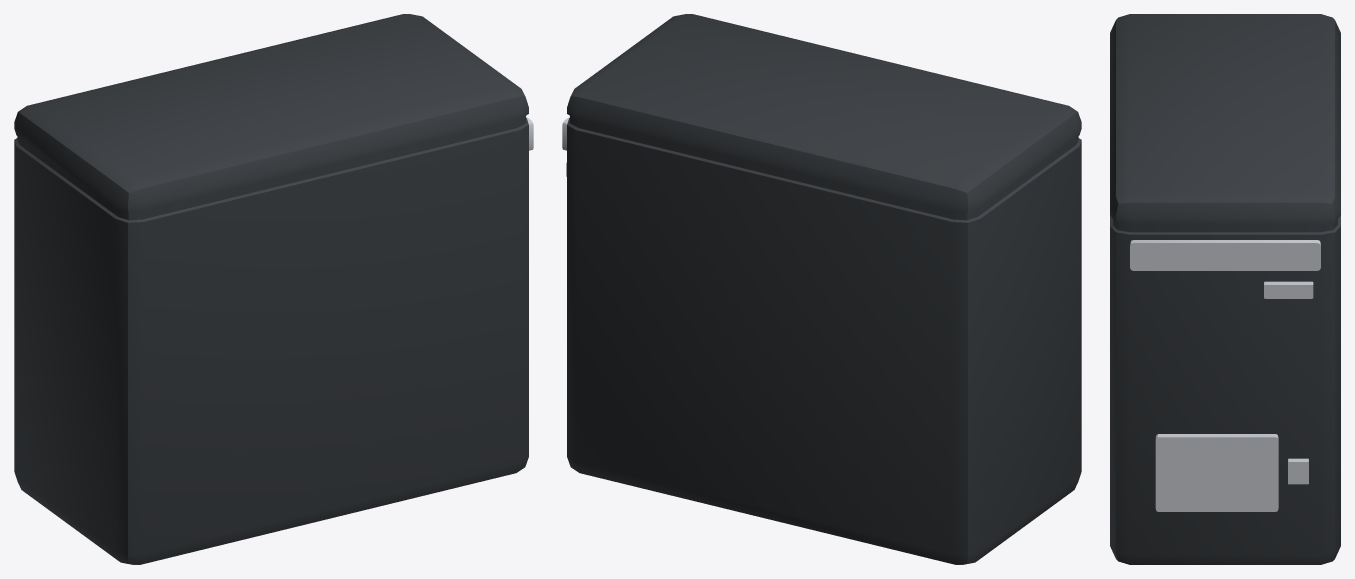
Rendered from Pc_Case.fbx.
3 renders of one model, left to right at view 1: azimuth 30°, elevation 25°; view 2: azimuth 150°, elevation 25°; view 3: azimuth 270°, elevation 25°, orthographic. The views are drawn at different scales.
Parts seen in each view (by area): view 1: PCCase.001; view 2: PCCase.001; view 3: PCCase.001.
Boxes of the visible parts, x1,y1,x2,y2 form: PCCase.001: (14,14,533,564); PCCase.001: (562,14,1081,564); PCCase.001: (1110,14,1340,564).
Size of the model in its own units: 113 by 100 by 56.23.
